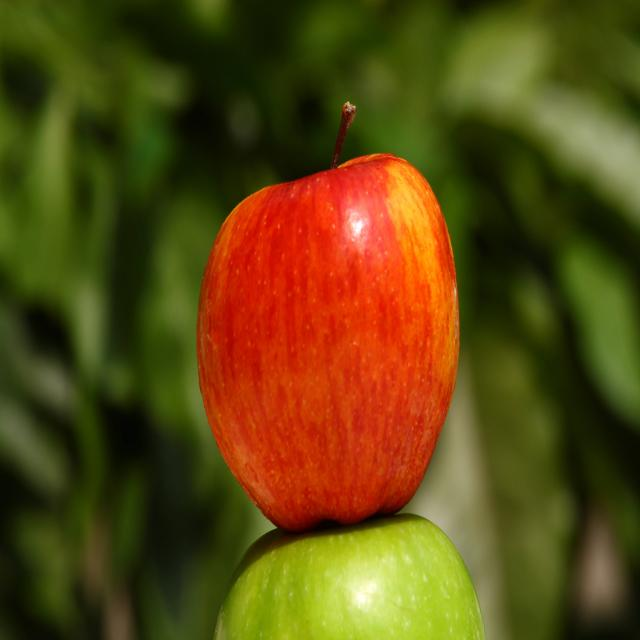Apple: (192, 102, 463, 532)
